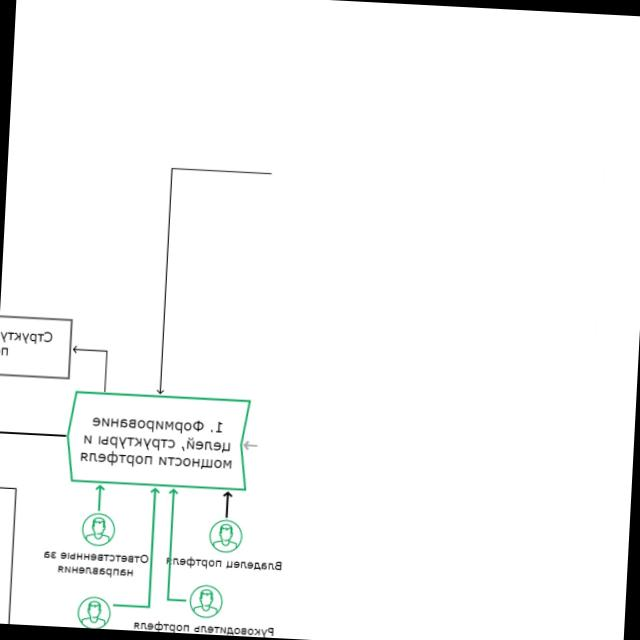arrow: (63, 389, 254, 493)
